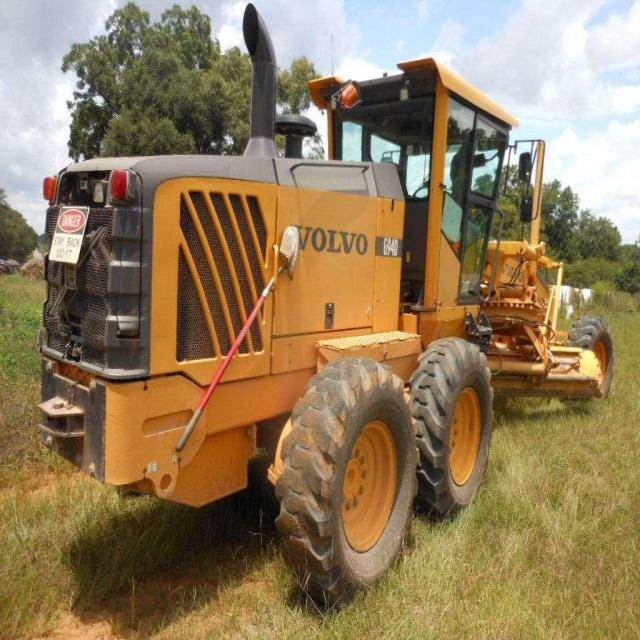Grader: (40, 19, 640, 615)
